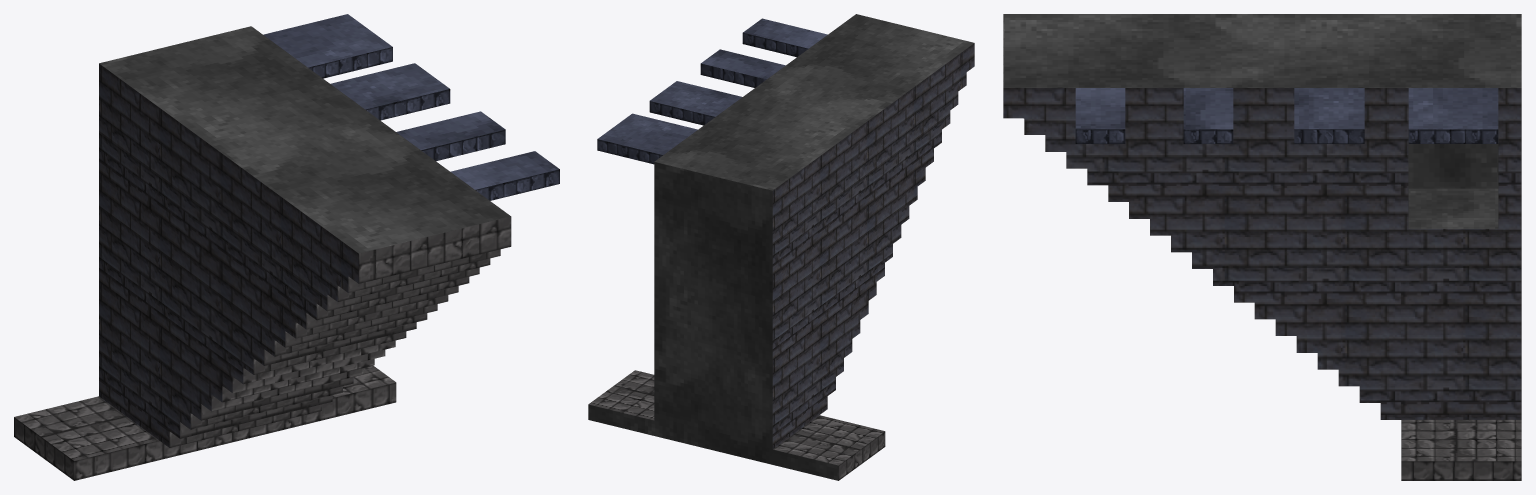
File: Stair + Platforms.fbx
3 views of the same model, side by side, from view 1: azimuth 30°, elevation 25°; view 2: azimuth 150°, elevation 25°; view 3: azimuth 270°, elevation 25° (orthographic). The views are drawn at different scales.
Parts seen in each view (by area): view 1: Stairs, Platforms; view 2: Stairs, Platforms; view 3: Stairs, Platforms.
Part boxes in pixels (left/top/right/bottom): Stairs: left=14, top=26, right=511, bottom=480; Platforms: left=263, top=14, right=559, bottom=200; Stairs: left=588, top=14, right=974, bottom=480; Platforms: left=597, top=18, right=827, bottom=164; Stairs: left=1003, top=14, right=1521, bottom=480; Platforms: left=1075, top=88, right=1498, bottom=143.
Bounding box in the file's own units: 622 × 651 × 870.
